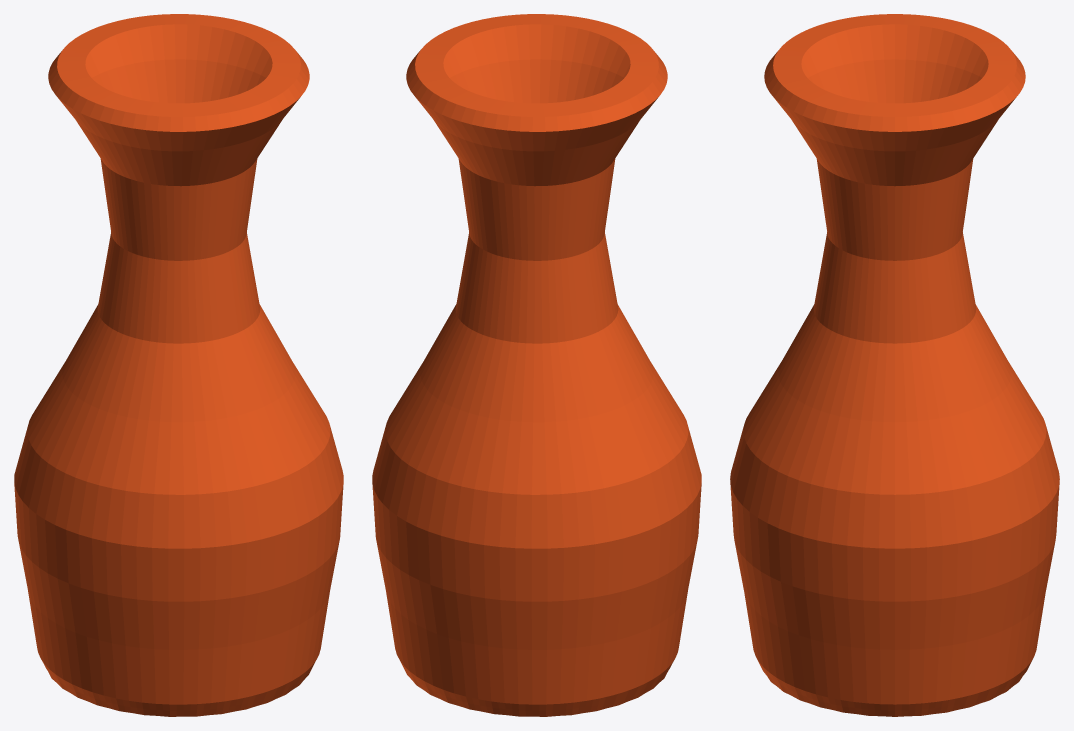
Rendered from Vas Besar.fbx.
The picture shows the model from 3 angles, left to right: view 1: azimuth 30°, elevation 25°; view 2: azimuth 150°, elevation 25°; view 3: azimuth 270°, elevation 25°; orthographic projection.
Parts seen in each view (by area): view 1: Cylinder; view 2: Cylinder; view 3: Cylinder.
Part boxes in pixels (x1,y1,x2,y2): Cylinder: (14, 14, 343, 716); Cylinder: (372, 14, 701, 716); Cylinder: (730, 14, 1059, 716).
Size of the model in its own units: 51.11 by 102 by 51.11.
